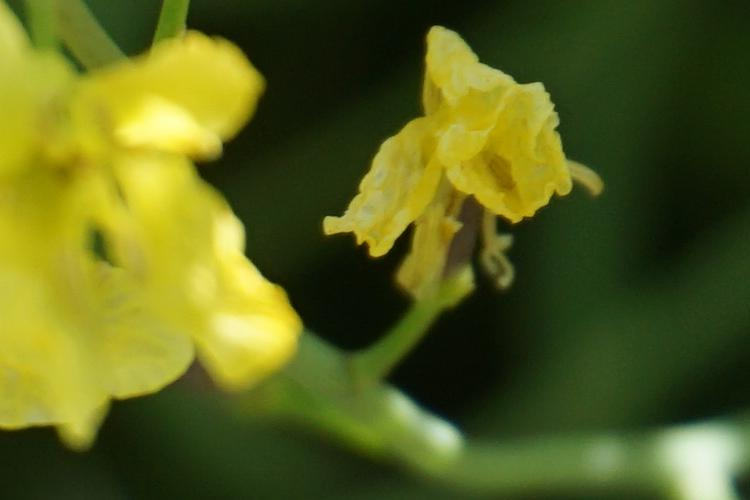yellow: (17, 34, 304, 424), (360, 41, 598, 317)
